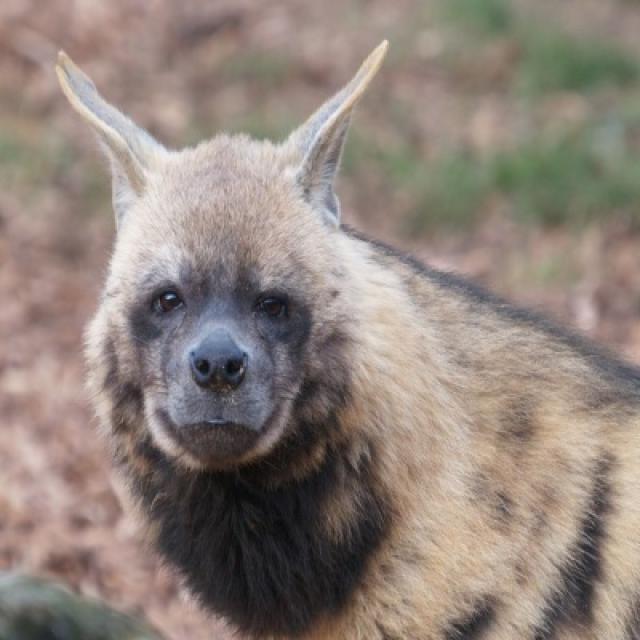hyena: (54, 43, 638, 638)
